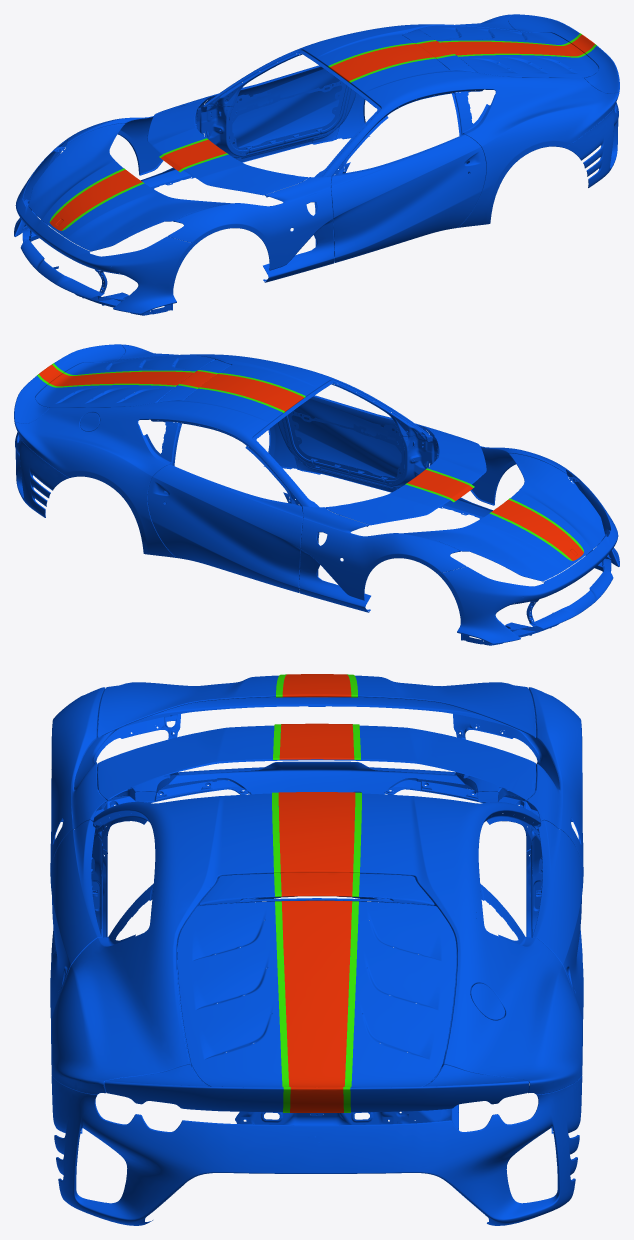
Rendered from car.glb.
The picture shows the model from 3 angles, top to bottom: view 1: azimuth 30°, elevation 25°; view 2: azimuth 150°, elevation 25°; view 3: azimuth 270°, elevation 25°; orthographic projection. The views are drawn at different scales.
Parts seen in each view (by area): view 1: 6126effa-49e1-4cda-aab3-5c7b4463f4c2.002, 0bc85326-f470-4043-9386-4633b07a81c0.001, 32cf26f4-2142-4371-85ad-835ead0186fe.001; view 2: 6126effa-49e1-4cda-aab3-5c7b4463f4c2.002, 0bc85326-f470-4043-9386-4633b07a81c0.001, 32cf26f4-2142-4371-85ad-835ead0186fe.001; view 3: 6126effa-49e1-4cda-aab3-5c7b4463f4c2.002, 0bc85326-f470-4043-9386-4633b07a81c0.001, 32cf26f4-2142-4371-85ad-835ead0186fe.001.
Boxes of the visible parts, <box> form: 6126effa-49e1-4cda-aab3-5c7b4463f4c2.002: <box>14,14,619,315</box>; 0bc85326-f470-4043-9386-4633b07a81c0.001: <box>50,34,595,230</box>; 32cf26f4-2142-4371-85ad-835ead0186fe.001: <box>49,33,596,230</box>; 6126effa-49e1-4cda-aab3-5c7b4463f4c2.002: <box>14,344,619,645</box>; 0bc85326-f470-4043-9386-4633b07a81c0.001: <box>38,364,583,560</box>; 32cf26f4-2142-4371-85ad-835ead0186fe.001: <box>37,363,583,560</box>; 6126effa-49e1-4cda-aab3-5c7b4463f4c2.002: <box>50,675,583,1225</box>; 0bc85326-f470-4043-9386-4633b07a81c0.001: <box>278,674,355,1112</box>; 32cf26f4-2142-4371-85ad-835ead0186fe.001: <box>272,674,361,1112</box>.
Size of the model in its own units: 4.66 by 1.16 by 1.97.
